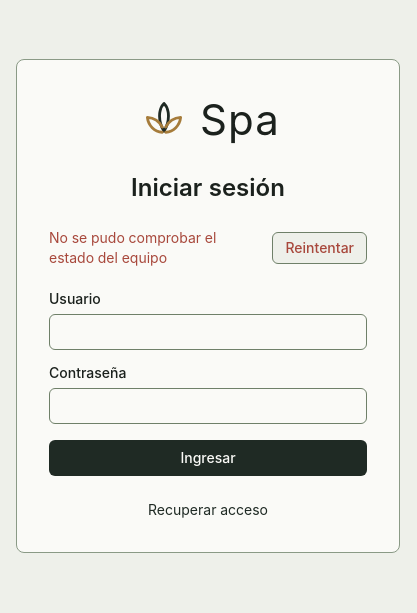
LoginPage › login_surfaces_setup_status_failure_and_allows_retry
Expected: the text "No se pudo comprobar el estado del equipo" is shown, [49,229,216,266]
Click the button "Reintentar" at (320, 248), box [272,232,367,264]
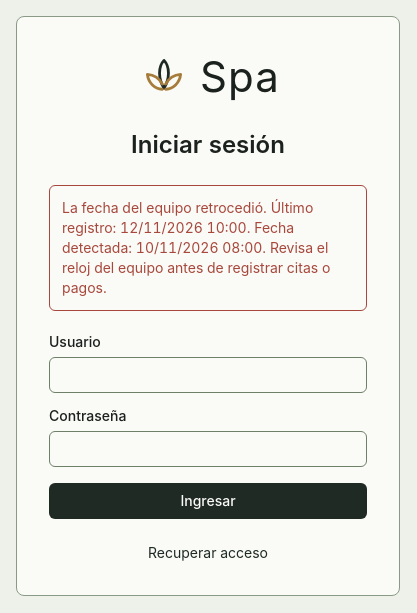
Expected: the text "La fecha del equipo retrocedió" is shown, [62,199,313,236]
Expected: the text "No se pudo comprobar el estado del equipo" is gone
Expected: the button "Reintentar" is gone
